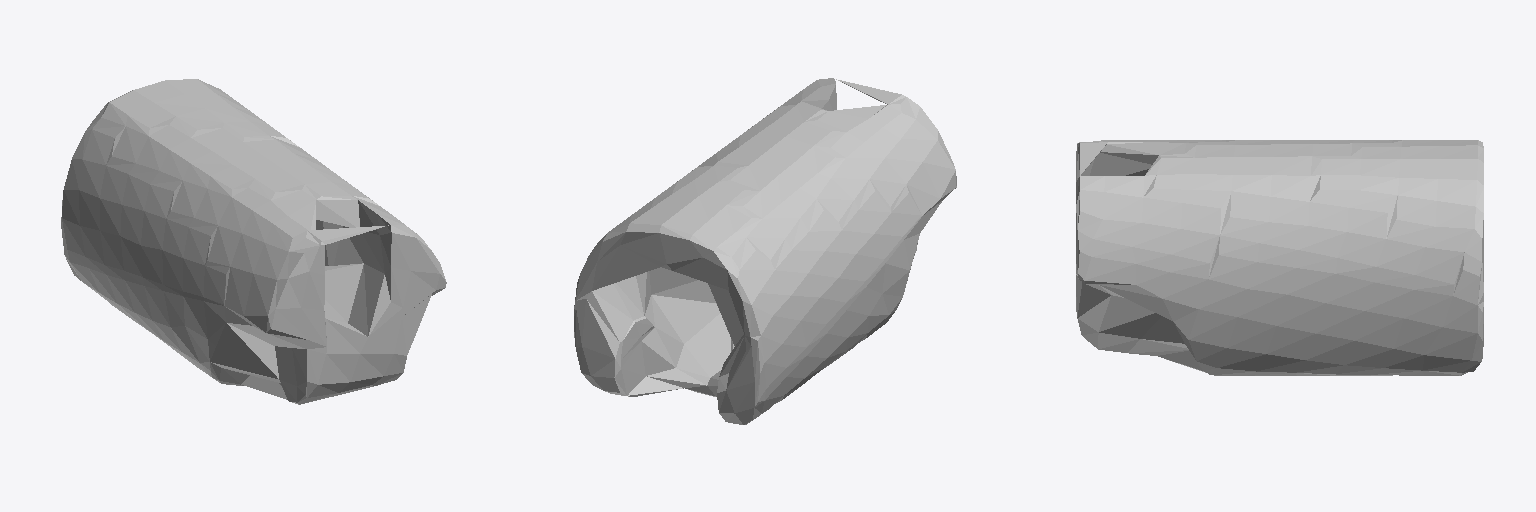
File: sim_ecub_1-0_r_hand_pinkie_1.obj
The picture shows the model from 3 angles: view 1: azimuth 30°, elevation 25°; view 2: azimuth 150°, elevation 25°; view 3: azimuth 270°, elevation 25°; orthographic projection.
Size of the model in its own units: 16.99 by 17.24 by 31.5.